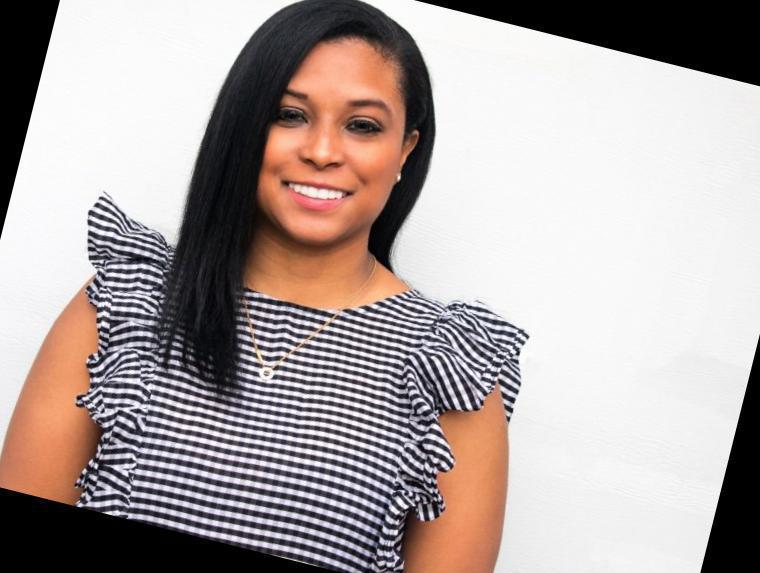Sober: (263, 39, 399, 230)
